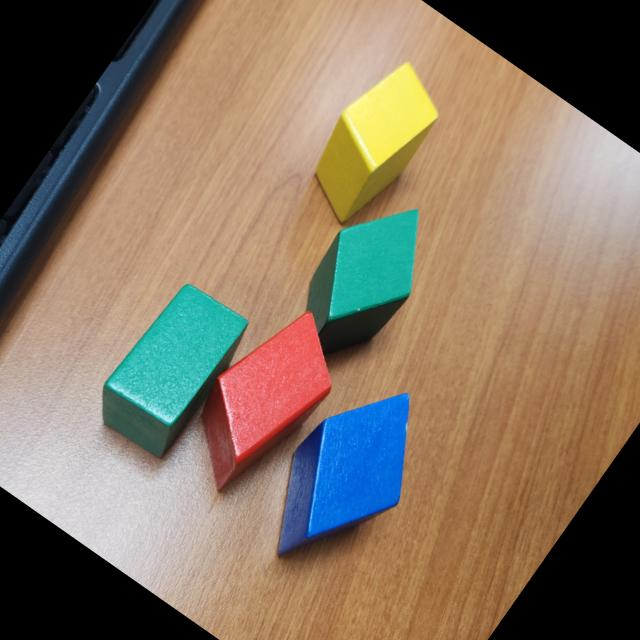blue: (238, 359, 453, 596)
green: (271, 179, 452, 380), (82, 274, 254, 465)
red: (158, 288, 360, 513)
yellow: (288, 49, 455, 238)
